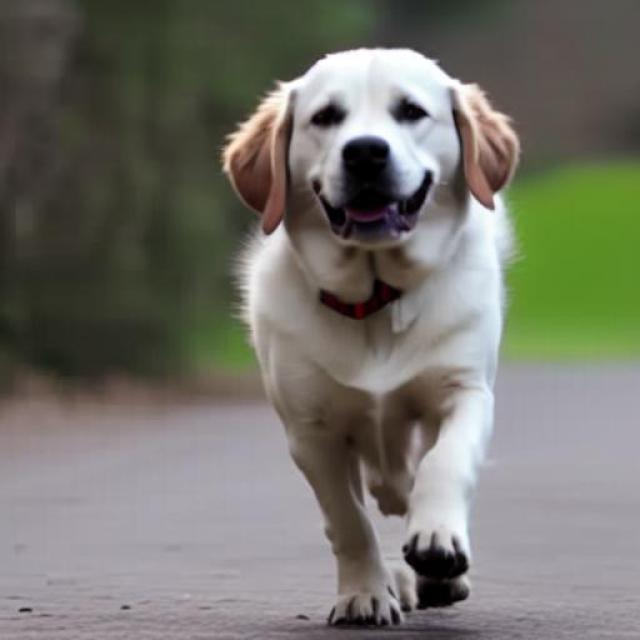Dog: (218, 47, 522, 626)
